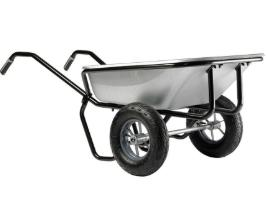BROUETTE: (0, 49, 267, 177)
